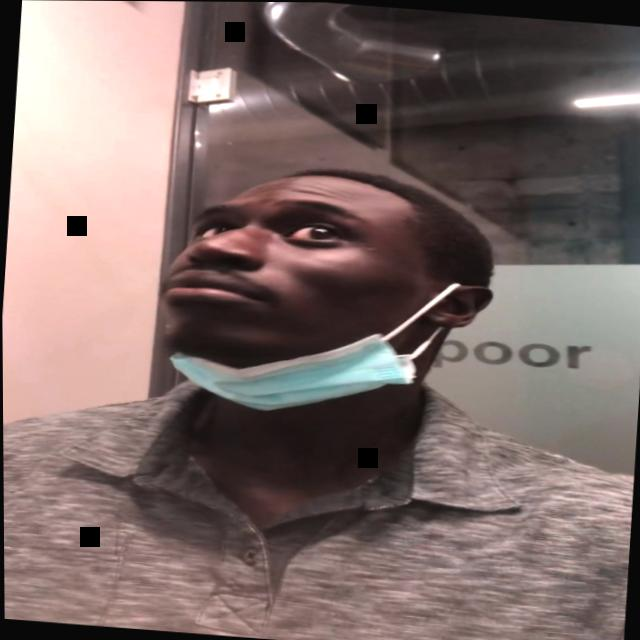NO-Mask: (153, 180, 495, 379)
